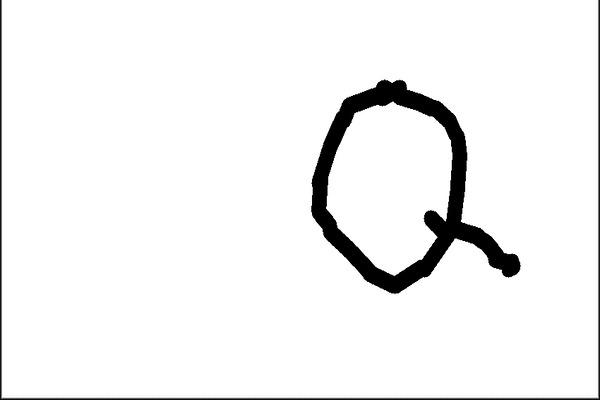Q: (309, 69, 531, 341)
